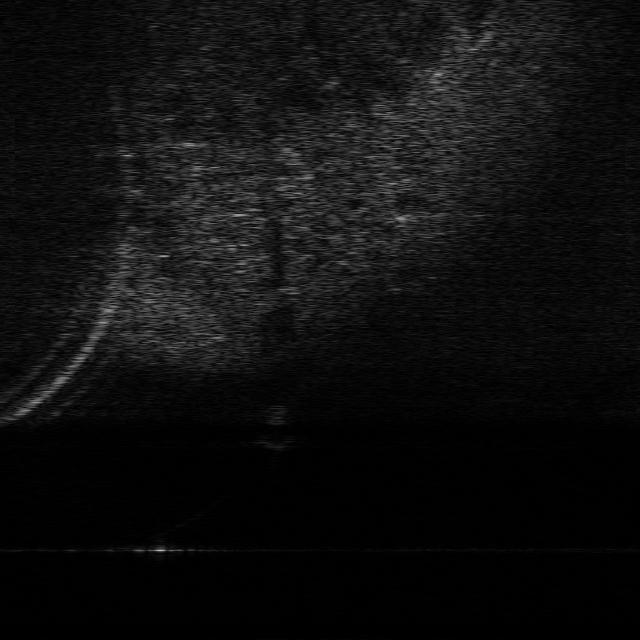cube: (258, 438, 298, 451)
cylinder: (265, 404, 287, 427)
